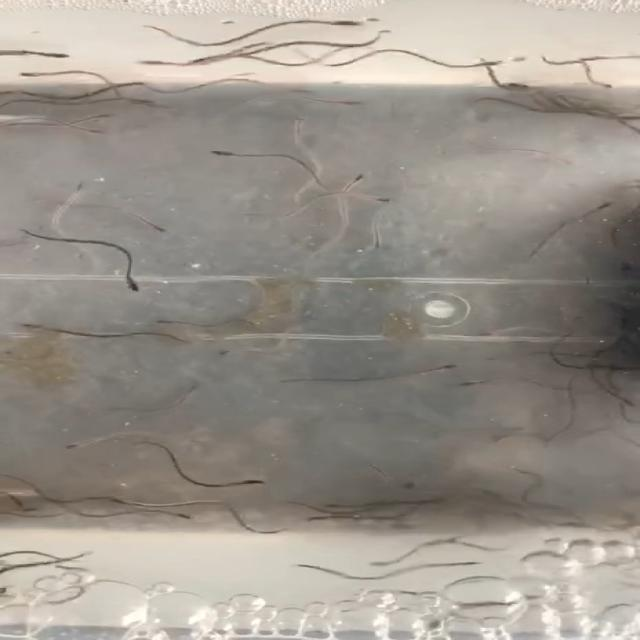active_glass_eel: (313, 504, 354, 538), (353, 550, 404, 575), (227, 467, 274, 493), (17, 318, 73, 339), (51, 428, 93, 454), (492, 463, 552, 480), (110, 278, 154, 300), (59, 124, 114, 141), (173, 381, 226, 398), (71, 110, 145, 122), (202, 142, 242, 163), (168, 504, 202, 528), (136, 311, 183, 328), (43, 40, 76, 64), (432, 354, 466, 377), (328, 13, 368, 32), (456, 554, 495, 572), (331, 87, 361, 110), (109, 71, 147, 89), (135, 51, 167, 72), (364, 196, 406, 212), (138, 223, 176, 240), (586, 197, 624, 213), (588, 79, 620, 97), (339, 167, 369, 186), (456, 378, 482, 399), (21, 63, 44, 86), (547, 152, 575, 169), (480, 54, 502, 74), (288, 114, 312, 127), (48, 176, 49, 177)
